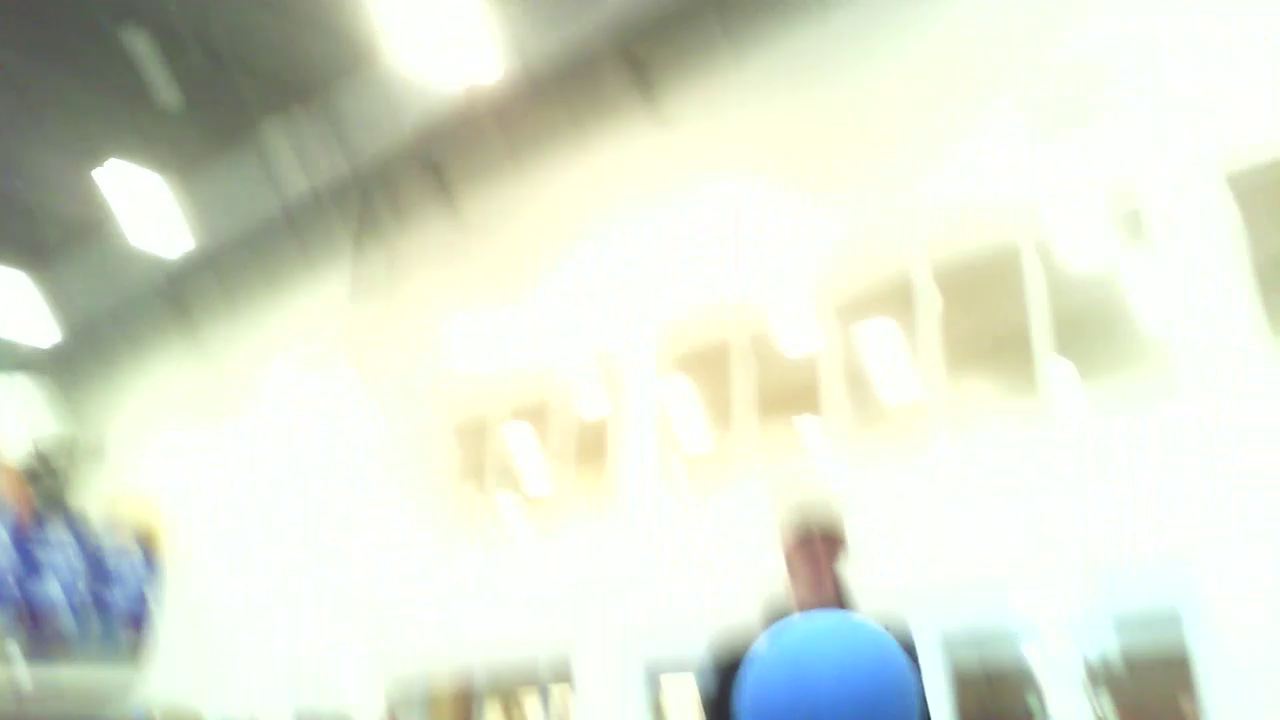blue_cargo: (719, 608, 925, 720)
